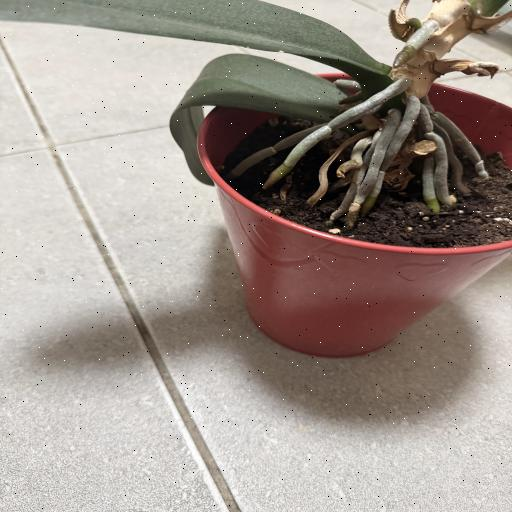Plant Pot: (194, 74, 512, 357)
